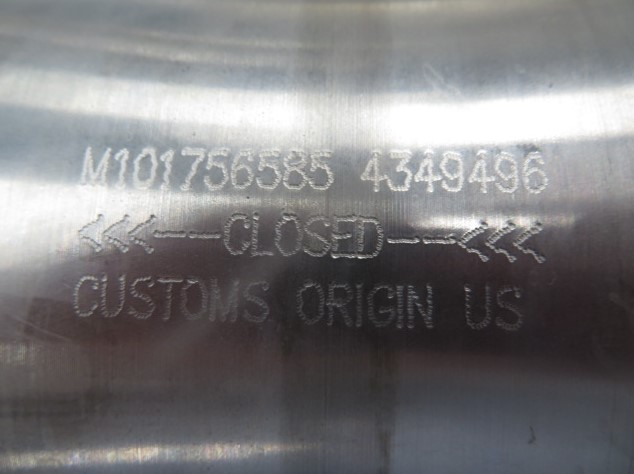character: (493, 279, 529, 337), (405, 278, 438, 339), (75, 142, 114, 193), (484, 218, 518, 271), (463, 277, 493, 337), (514, 218, 549, 269), (242, 275, 274, 329), (209, 275, 242, 327), (295, 277, 326, 332), (155, 272, 183, 330), (128, 271, 156, 329), (180, 273, 209, 327), (465, 147, 495, 199), (367, 280, 394, 337), (274, 208, 303, 261), (303, 208, 332, 261), (99, 270, 128, 323), (520, 148, 553, 194), (326, 277, 353, 333), (71, 269, 99, 323), (414, 144, 441, 199), (356, 209, 384, 262), (178, 144, 205, 198), (457, 218, 488, 265), (222, 208, 250, 260), (307, 148, 335, 199), (387, 144, 414, 196), (358, 148, 387, 196), (256, 145, 283, 196), (101, 210, 132, 254), (230, 144, 256, 196), (205, 144, 230, 198), (128, 210, 156, 258), (332, 208, 357, 261), (283, 145, 307, 199), (131, 145, 157, 194), (439, 149, 464, 199), (250, 208, 274, 260), (73, 210, 101, 254), (494, 148, 520, 194), (157, 144, 178, 194), (114, 145, 131, 193), (353, 280, 366, 333), (395, 282, 407, 336), (151, 226, 188, 243), (188, 226, 222, 244), (384, 235, 422, 248), (421, 234, 456, 248)
